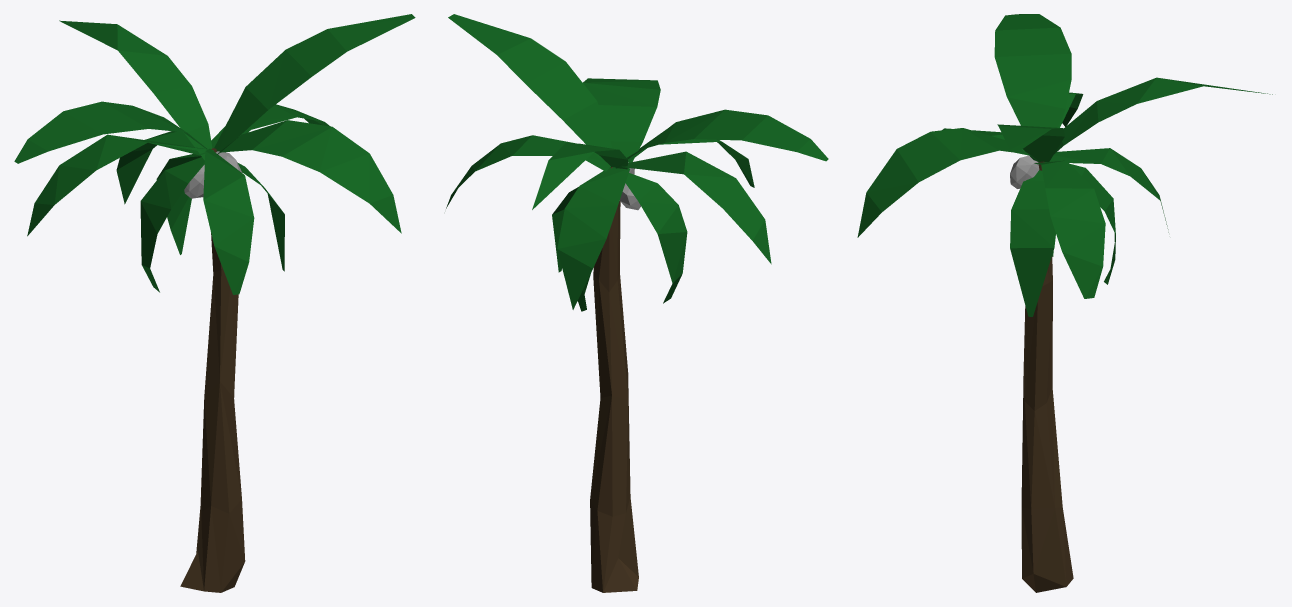
The model's file is CoconatTree.fbx.
3 renders of one model, left to right at view 1: azimuth 30°, elevation 25°; view 2: azimuth 150°, elevation 25°; view 3: azimuth 270°, elevation 25°, orthographic. The views are drawn at different scales.
Visible parts, largest first — view 1: CoconatTree; view 2: CoconatTree; view 3: CoconatTree.
Boxes of the visible parts, bbox=[...] form: CoconatTree: bbox=[14, 14, 415, 592]; CoconatTree: bbox=[446, 14, 828, 592]; CoconatTree: bbox=[857, 14, 1272, 592].
Bounding box in the file's own units: 141 × 183 × 133.
